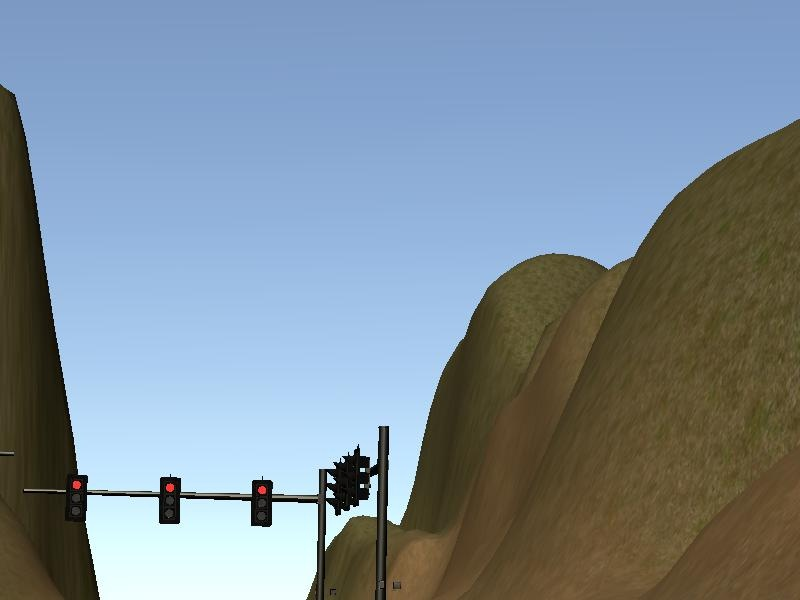RED: (159, 476, 181, 526), (251, 479, 273, 529), (67, 476, 88, 521)
